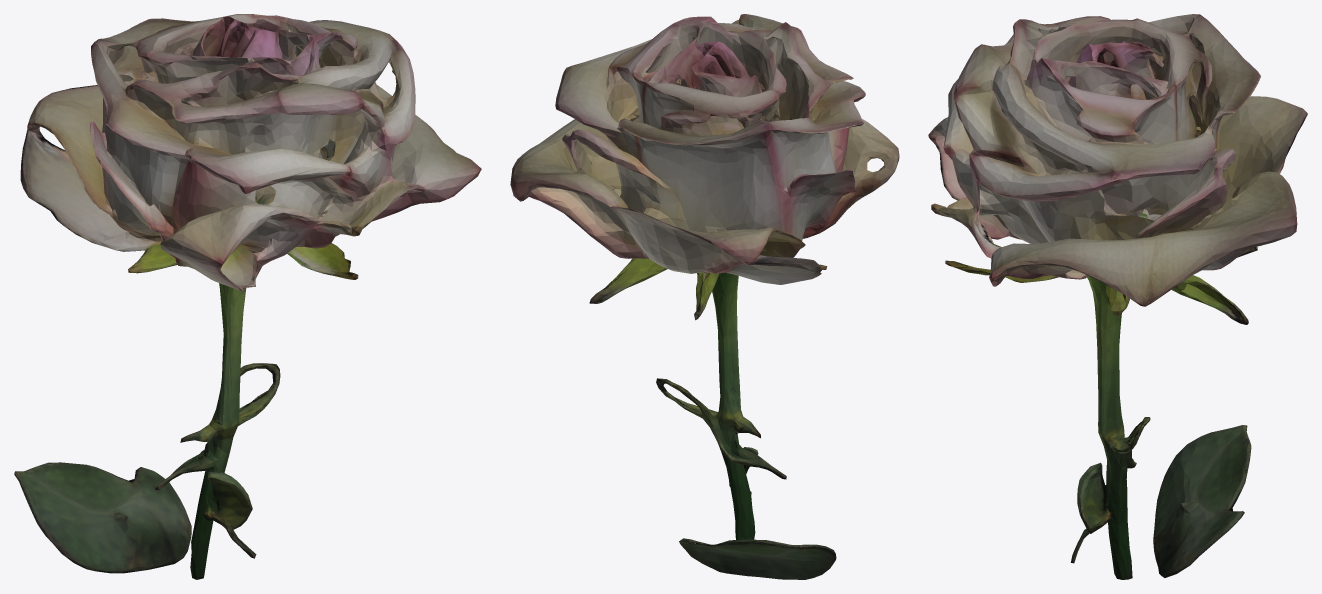
3 renders of one model, left to right at view 1: azimuth 30°, elevation 25°; view 2: azimuth 150°, elevation 25°; view 3: azimuth 270°, elevation 25°, orthographic. The views are drawn at different scales.
Parts seen in each view (by area): view 1: world; view 2: world; view 3: world.
Part boxes in pixels (x1,y1,x2,y2): world: (14, 14, 481, 579); world: (510, 14, 899, 579); world: (928, 14, 1307, 579).
Bounding box in the file's own units: 0.6009 × 0.8594 × 0.5284.
1 material, 1 textured.
